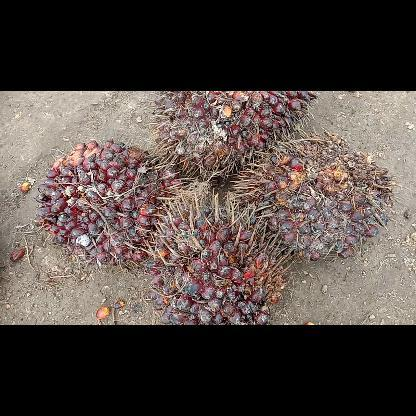TBS masak: (230, 127, 402, 260), (146, 188, 290, 324), (33, 136, 181, 266), (147, 90, 317, 180)
